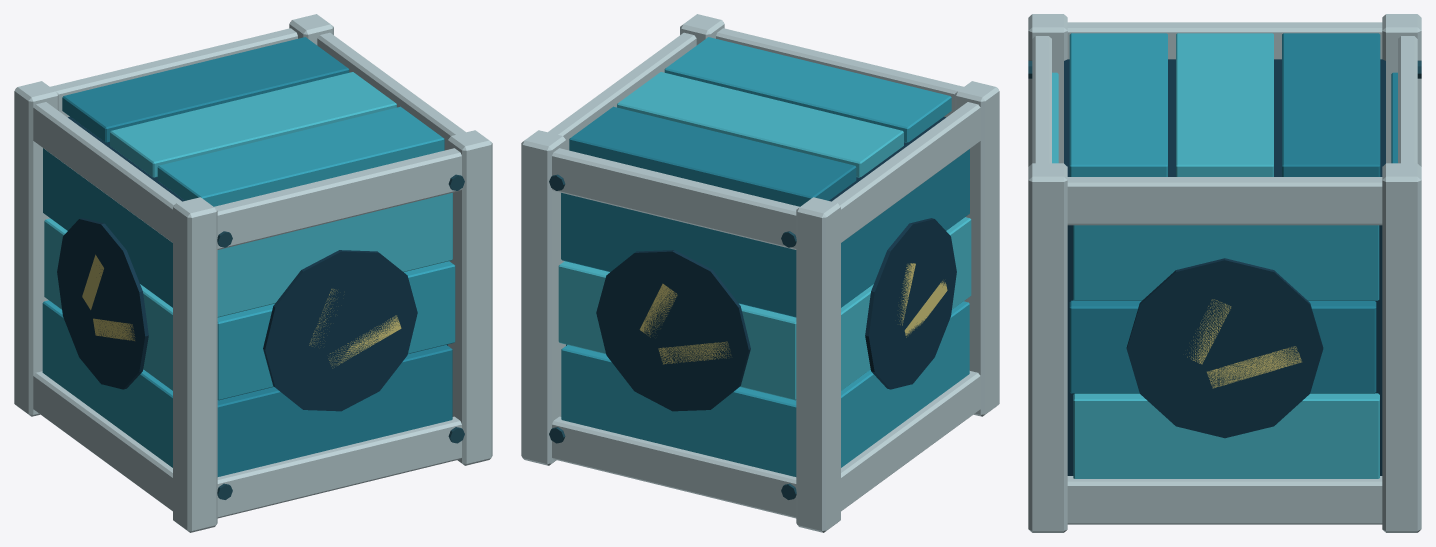
The model's file is SM_crate_time.glb.
The picture shows the model from 3 angles, left to right: view 1: azimuth 30°, elevation 25°; view 2: azimuth 150°, elevation 25°; view 3: azimuth 270°, elevation 25°; orthographic projection. The views are drawn at different scales.
Parts seen in each view (by area): view 1: SM_crate_time; view 2: SM_crate_time; view 3: SM_crate_time.
Part boxes in pixels (x1=…): SM_crate_time: x1=14, y1=14, x2=492, y2=532; SM_crate_time: x1=521, y1=14, x2=999, y2=532; SM_crate_time: x1=1028, y1=14, x2=1421, y2=532.
Bounding box in the file's own units: 1 × 1 × 1.
